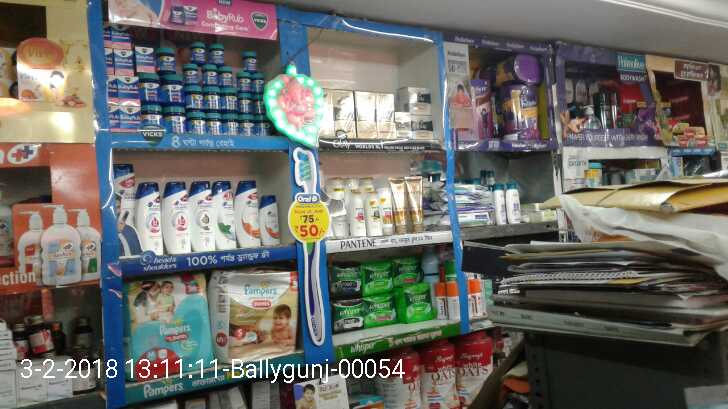vicks: (103, 26, 266, 134)
